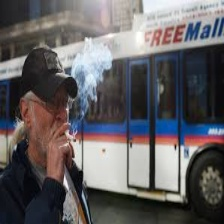smoke: (76, 52, 108, 85)
